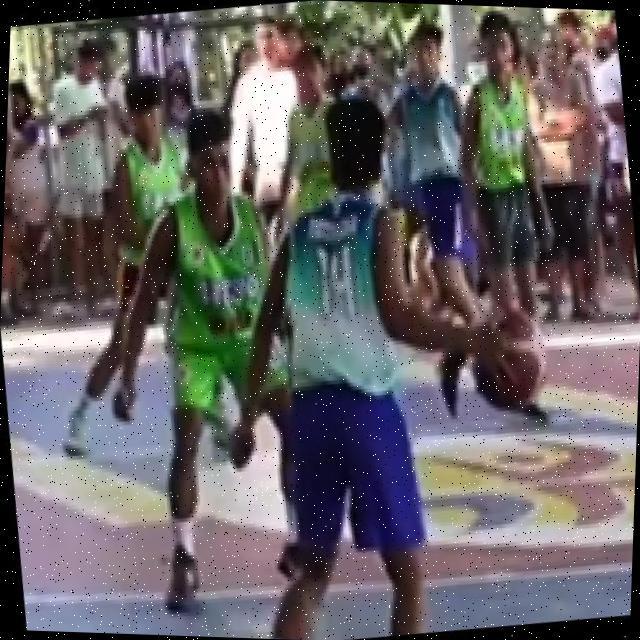ball: (452, 291, 561, 425)
